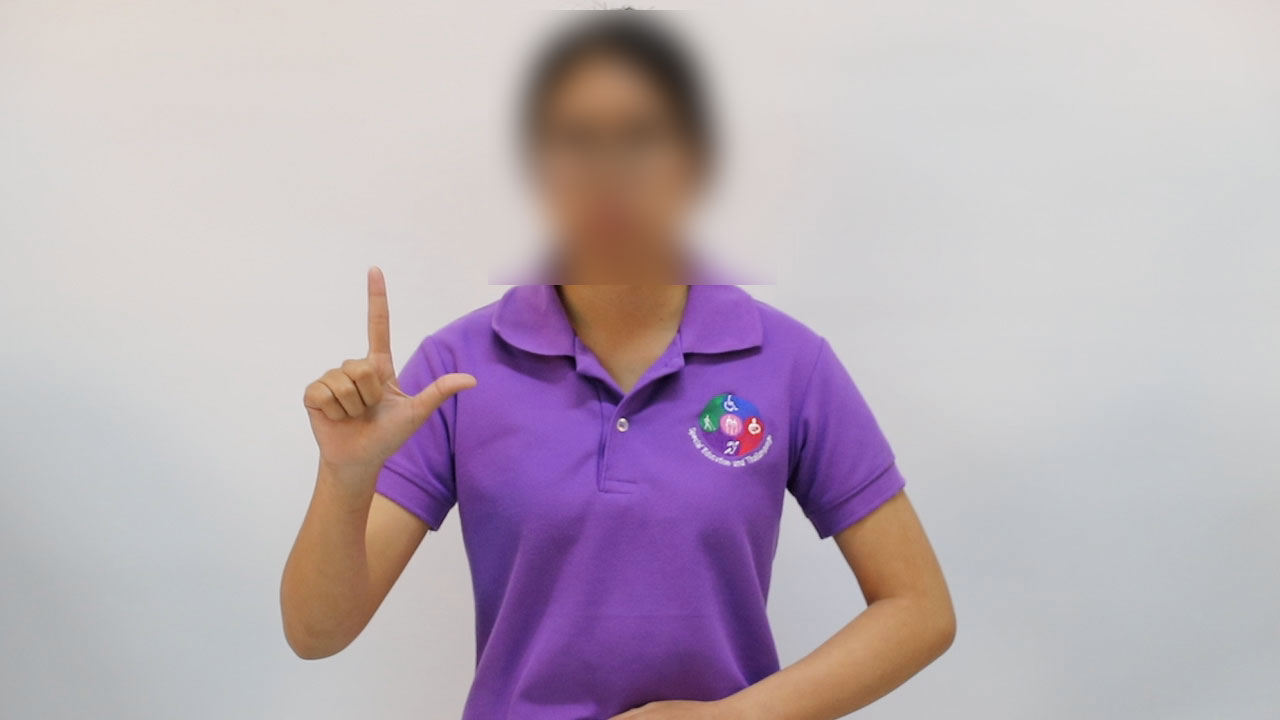lor: (286, 252, 482, 487)
